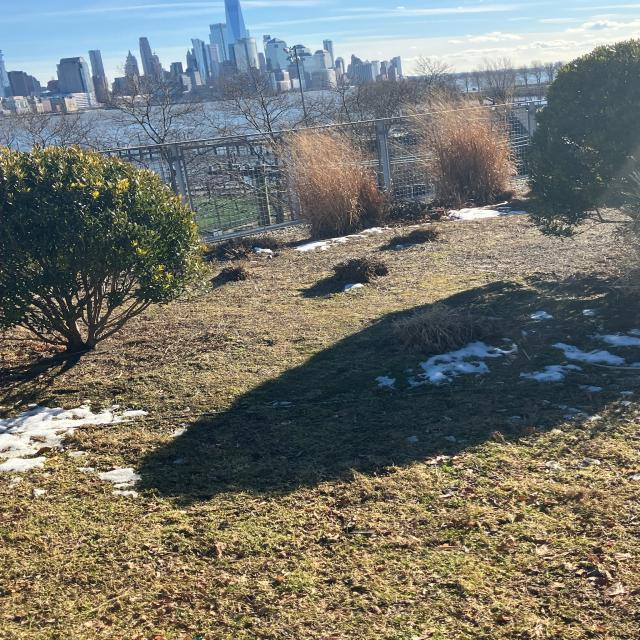WTC: (223, 0, 249, 40)
